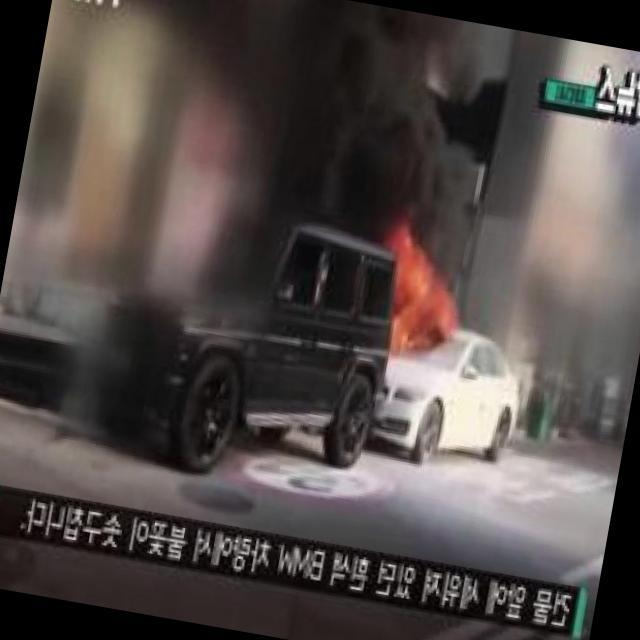Fire: (378, 250, 465, 368)
